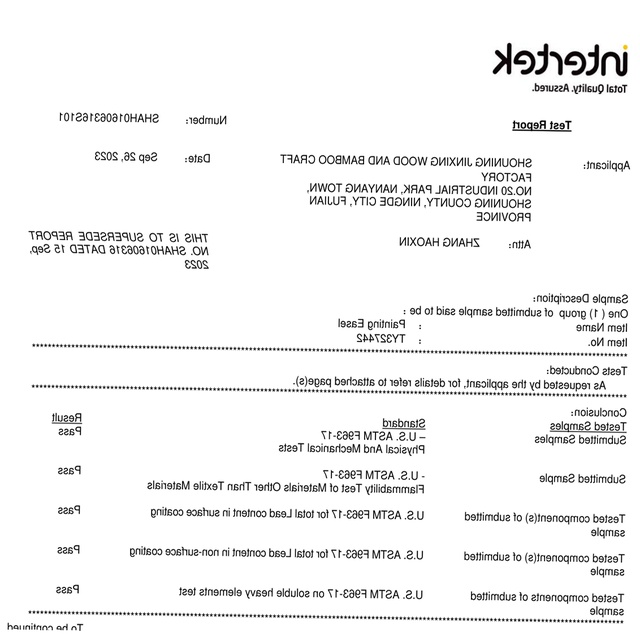intertek: (484, 35, 635, 102)
